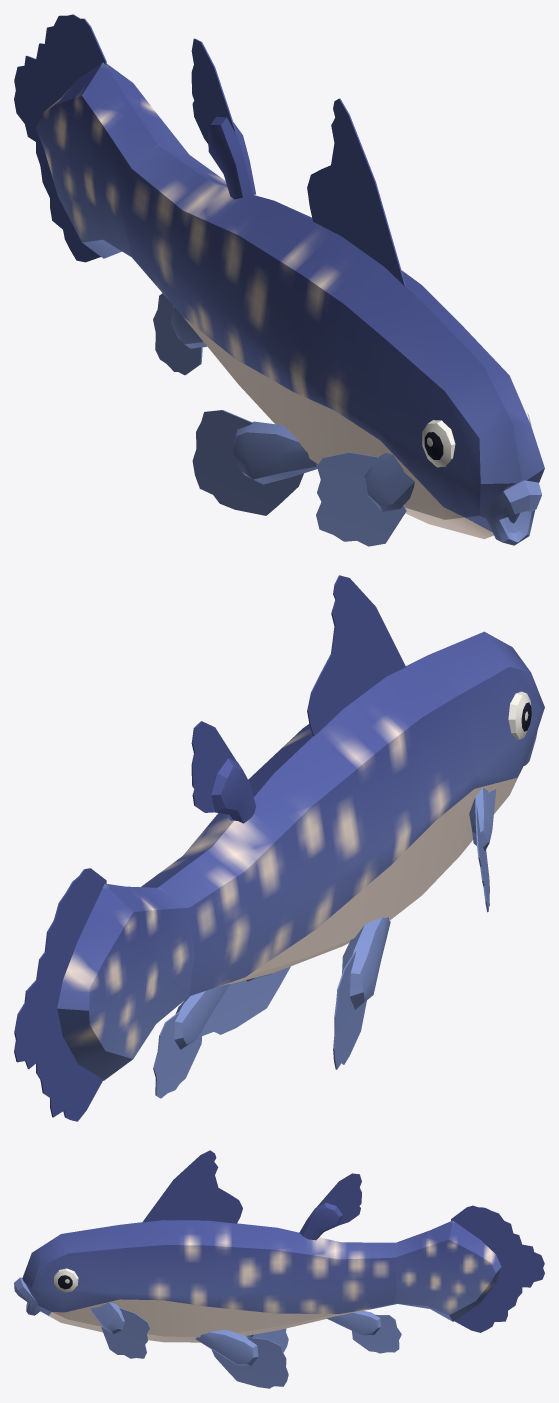
The picture shows the model from 3 angles, top to bottom: view 1: azimuth 30°, elevation 25°; view 2: azimuth 150°, elevation 25°; view 3: azimuth 270°, elevation 25°; orthographic projection. The views are drawn at different scales.
Visible parts, largest first — view 1: Fish_Coelacanth; view 2: Fish_Coelacanth; view 3: Fish_Coelacanth.
Part boxes in pixels (box(x1,y1,x2,y2)): Fish_Coelacanth: box(14, 14, 544, 546); Fish_Coelacanth: box(14, 575, 544, 1121); Fish_Coelacanth: box(14, 1150, 544, 1388).
Size of the model in its own units: 16.28 by 39.38 by 85.15.
